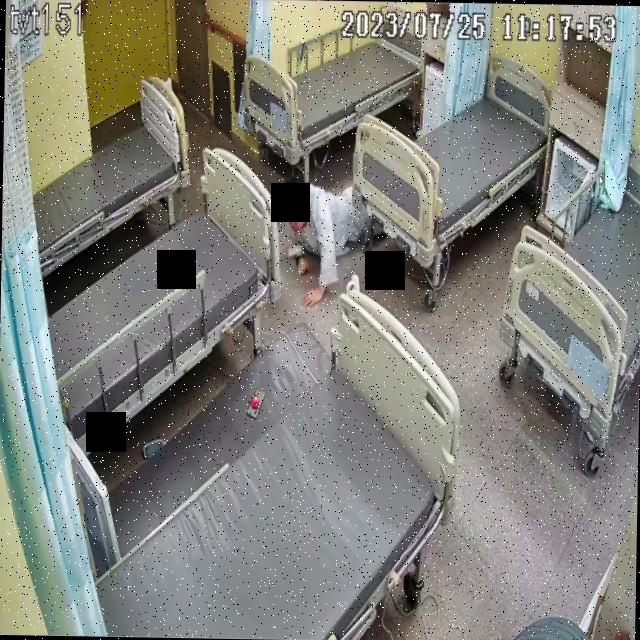bed: (93, 294, 453, 640), (40, 149, 279, 447), (502, 145, 640, 440), (350, 62, 549, 246), (29, 74, 191, 274), (247, 15, 422, 164)
fall: (280, 164, 367, 304)
patient: (278, 160, 367, 300)
